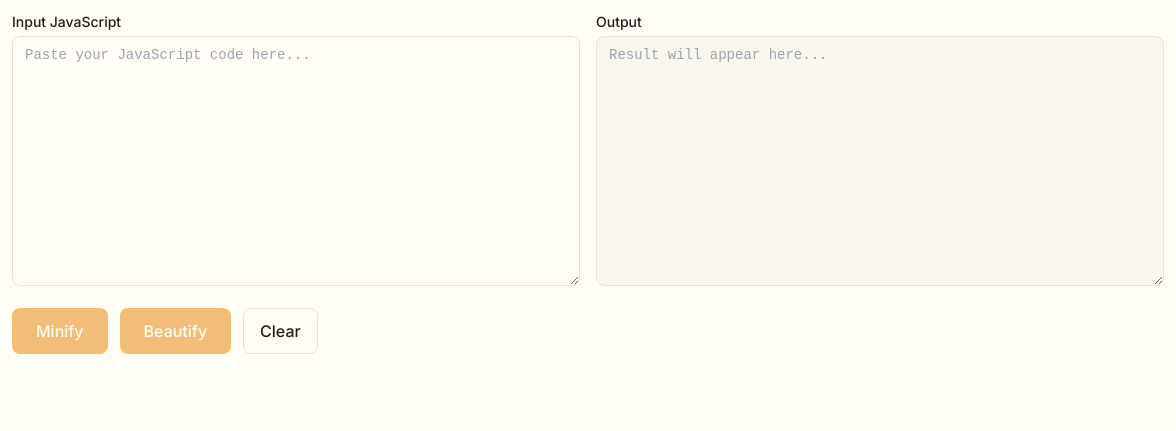
Scenario: JsMinifier › shows statistics after minification
In the text box named "JavaScript input": [296, 161] box top-left (12, 36), bottom-right (580, 286), type "var   x   =   1;"
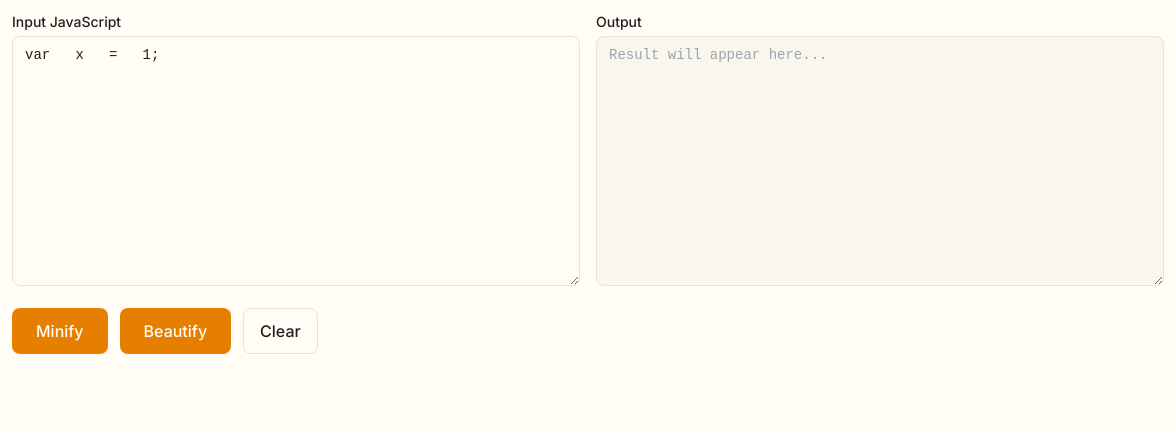
Click the button "Minify": [60, 331] box top-left (12, 308), bottom-right (108, 354)
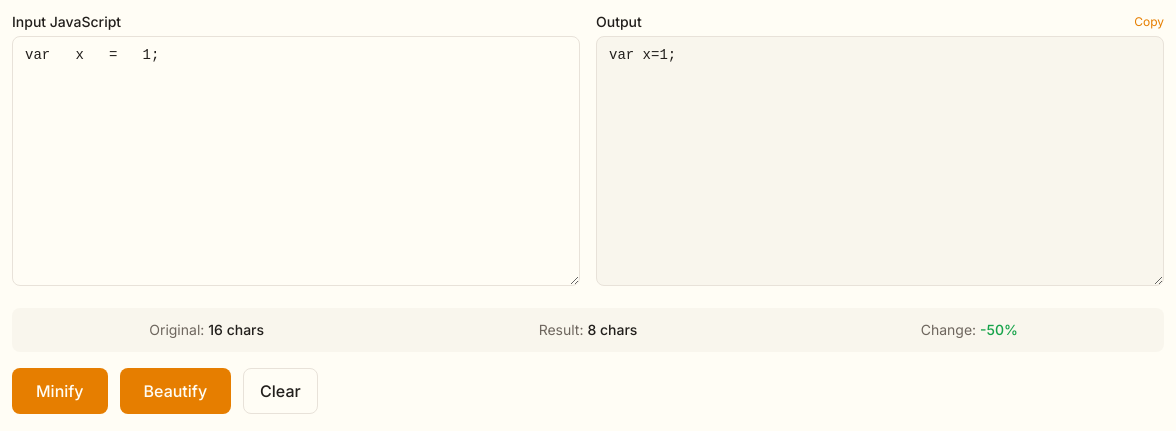
Now the text "Original:" is shown, box top-left (149, 321), bottom-right (208, 338)
Now the text "Result:" is shown, box top-left (539, 321), bottom-right (587, 338)
Now the text "Change:" is shown, box top-left (921, 321), bottom-right (980, 338)
